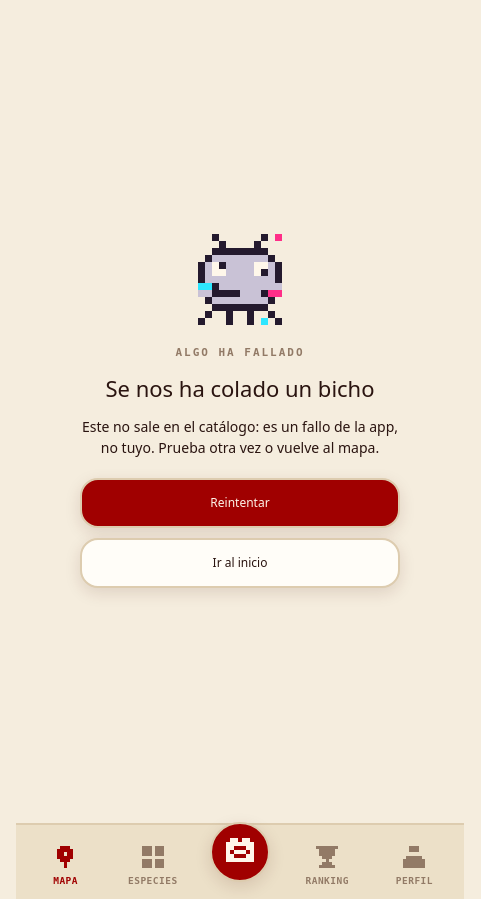
Test: shell navigation › navigates between tabs and marks the active one
This screenshot has width=481, height=899.
Step 1. Click the link "Ranking" → {"x": 327, "y": 866}, box [306,846,349,886]
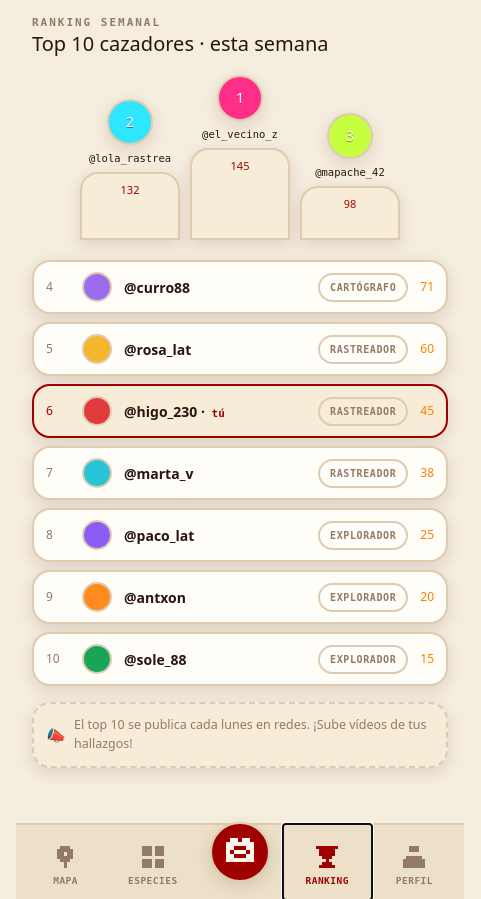
Now the text "Ranking semanal" is shown, box [32,16,161,29]
